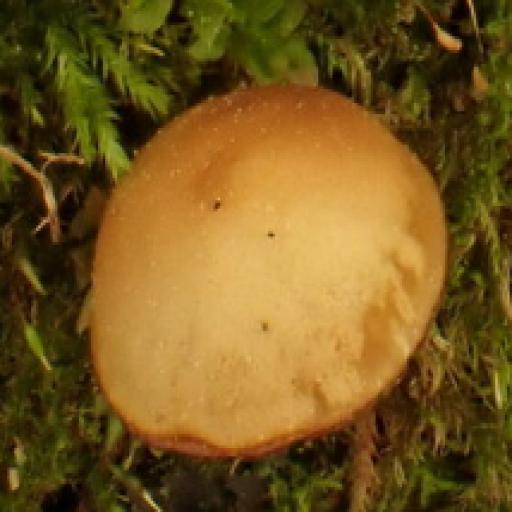mushroom: (85, 80, 450, 464)
